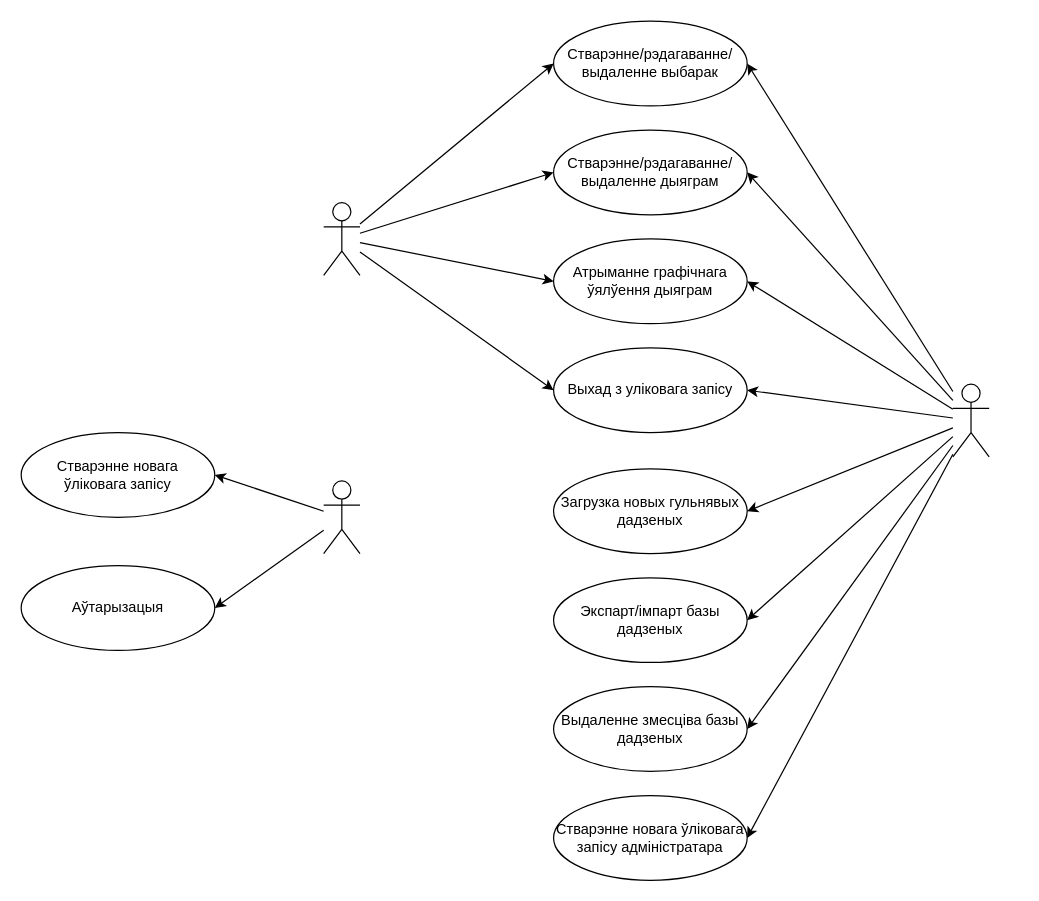
Some shapes in this 1039 by 901 pixel diagram are drawn without their labels. Here are the shapes that lost their labels. From the top down, the centre of each, then its label:
point (341, 238): Аўтарызаваны карыстальнік
point (970, 420): Адміністратар
point (341, 517): Не аўтарызаваны карыстальнік
